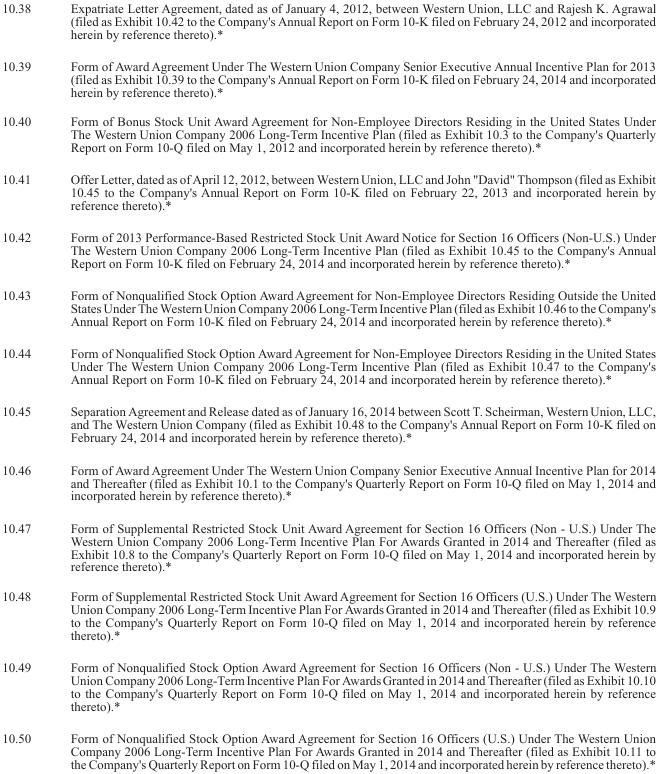table: (1, 0, 655, 770)
table column: (49, 0, 655, 770), (1, 0, 49, 770)
table row: (1, 650, 655, 721), (1, 580, 655, 650), (1, 511, 655, 580), (1, 394, 655, 453), (1, 162, 655, 220), (1, 220, 655, 278), (1, 278, 655, 336), (1, 336, 655, 394), (1, 453, 655, 511), (1, 49, 655, 106), (1, 106, 655, 162), (1, 0, 655, 49), (1, 721, 655, 770)
